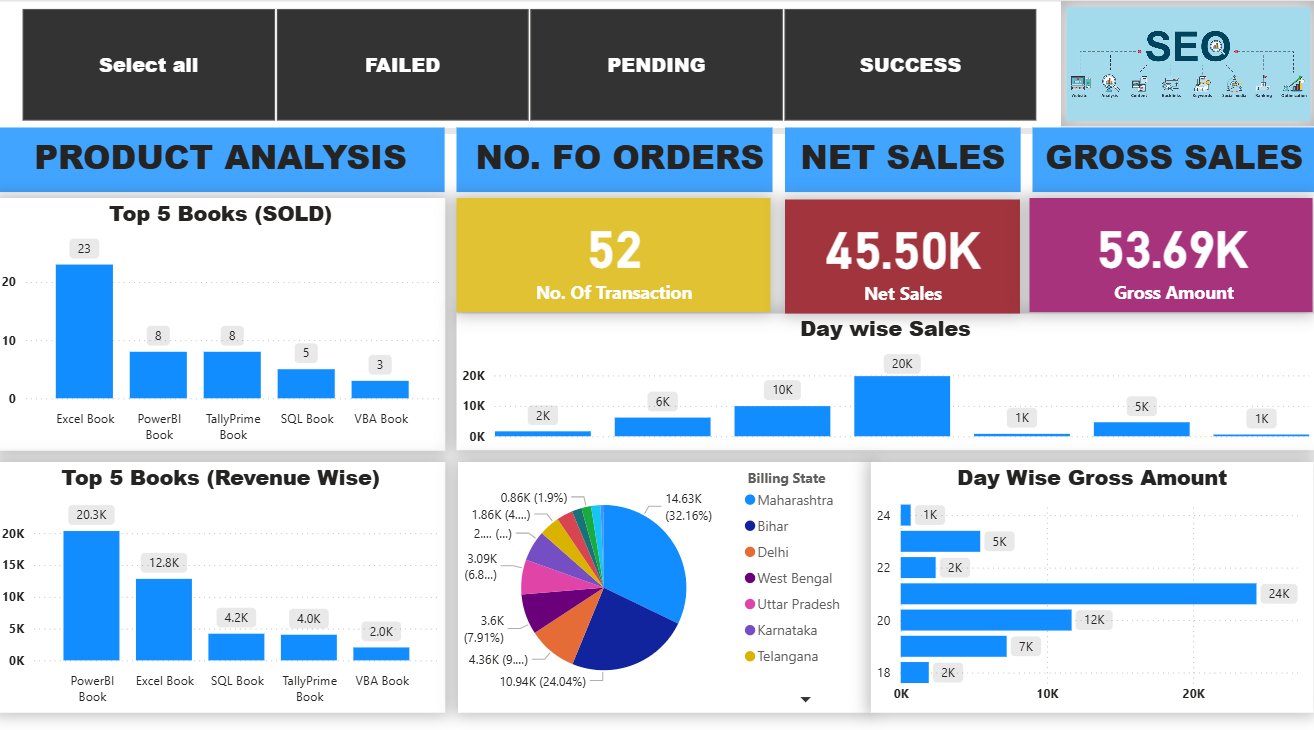

What the dashboard file says about the page in this screenshot:
{"tool":"powerbi","page":{"name":"Insights in Books data","canvas":[1280,720],"ordinal":0},"visuals":[{"type":"shape","box":[0,0,1280.5,135.8],"z":0},{"type":"slicer","fields":{"Values":["7 Days Books Sales Report File.Payment Status"]},"box":[0,6.6,1033.6,122.6],"z":1000},{"type":"textbox","box":[0,129.2,435.7,62.9],"z":2000},{"type":"textbox","box":[447.2,129.2,306.4,62.9],"z":3000},{"type":"textbox","box":[765.3,129.2,228.6,62.9],"z":3001},{"type":"textbox","box":[1005.5,129.2,275,62.9],"z":3002},{"type":"image","box":[1033.6,6.6,246.8,120.9],"z":3003},{"type":"clusteredColumnChart","title":"Top 5 Books (SOLD)","fields":{"Category":["7 Days Books Sales Report File.Books"],"Y":["CountNonNull(7 Days Books Sales Report File.Books)"]},"box":[0,198.3,435.8,245],"z":3004},{"type":"clusteredColumnChart","title":"Top 5 Books (Revenue Wise)","fields":{"Category":["7 Days Books Sales Report File.Books"],"Y":["Sum(7 Days Books Sales Report File.Net Amount)"]},"box":[0,454.5,435.8,243.2],"z":3005},{"type":"clusteredColumnChart","title":"Day wise Sales","fields":{"Y":["Sum(7 Days Books Sales Report File.Net Amount)"],"Category":["7 Days Books Sales Report File.Order Date.Variation.Date Hierarchy.Day"]},"box":[447,310.5,832.3,132.8],"z":3006},{"type":"card","fields":{"Values":["CountNonNull(7 Days Books Sales Report File.OrderId)"]},"box":[447,198.3,304.9,110.4],"z":3007},{"type":"card","fields":{"Values":["Sum(7 Days Books Sales Report File.Net Amount)"]},"box":[765,200.1,228.2,110.4],"z":3008},{"type":"card","fields":{"Values":["Sum(7 Days Books Sales Report File.Gross Amount)"]},"box":[1002.6,198.3,275,110.4],"z":3009},{"type":"pieChart","fields":{"Category":["7 Days Books Sales Report File.State"],"Y":["Sum(7 Days Books Sales Report File.Net Amount)"]},"box":[448.9,454.5,400.3,243.2],"z":3010},{"type":"clusteredBarChart","title":"Day Wise Gross Amount","fields":{"Category":["7 Days Books Sales Report File.Order Date.Variation.Date Hierarchy.Day"],"Y":["Sum(7 Days Books Sales Report File.Gross Amount)"]},"box":[849.2,454.5,430.2,243.2],"z":3011}]}

Visuals, with their boxes in screenshot pixels (x1, y1, x2, y2), scaled from the page's 1280x720 canvas onto the 1314x730 screenshot:
shape: 0:0:1313:138
slicer - 7 Days Books Sales Report File.Payment Status: 0:7:1061:131
textbox: 0:131:447:195
textbox: 459:131:774:195
textbox: 786:131:1020:195
textbox: 1032:131:1313:195
image: 1061:7:1313:129
"Top 5 Books (SOLD)" clusteredColumnChart: 0:201:447:449
"Top 5 Books (Revenue Wise)" clusteredColumnChart: 0:461:447:707
"Day wise Sales" clusteredColumnChart: 459:315:1313:449
card - CountNonNull(7 Days Books Sales Report File.OrderId): 459:201:772:313
card - Sum(7 Days Books Sales Report File.Net Amount): 785:203:1020:315
card - Sum(7 Days Books Sales Report File.Gross Amount): 1029:201:1312:313
pieChart - 7 Days Books Sales Report File.State x Sum(7 Days Books Sales Report File.Net Amount): 461:461:872:707
"Day Wise Gross Amount" clusteredBarChart: 872:461:1313:707
